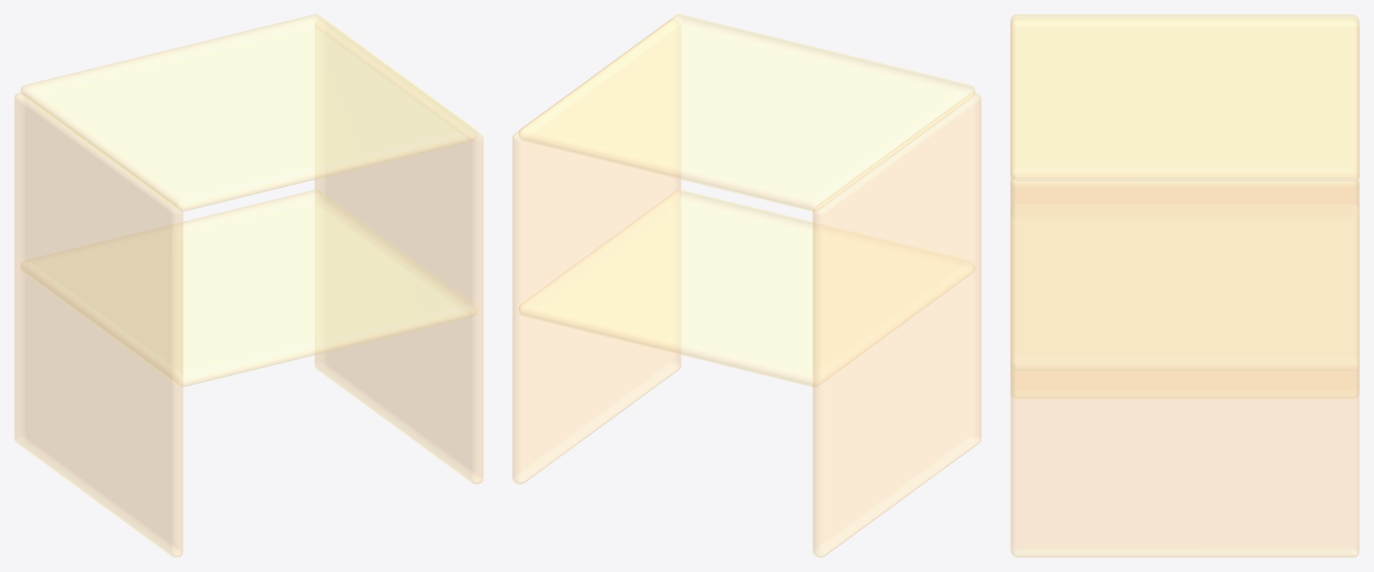
Rendered from ref03_06.glb.
The picture shows the model from 3 angles, left to right: view 1: azimuth 30°, elevation 25°; view 2: azimuth 150°, elevation 25°; view 3: azimuth 270°, elevation 25°; orthographic projection. The views are drawn at different scales.
Visible parts, largest first — view 1: ref03_06; view 2: ref03_06; view 3: ref03_06.
Boxes of the visible parts, left/top/right/bottom form: ref03_06: left=14, top=14, right=483, bottom=557; ref03_06: left=512, top=14, right=981, bottom=557; ref03_06: left=1010, top=14, right=1359, bottom=557.
Size of the model in its own units: 0.448 by 0.489 by 0.4.
